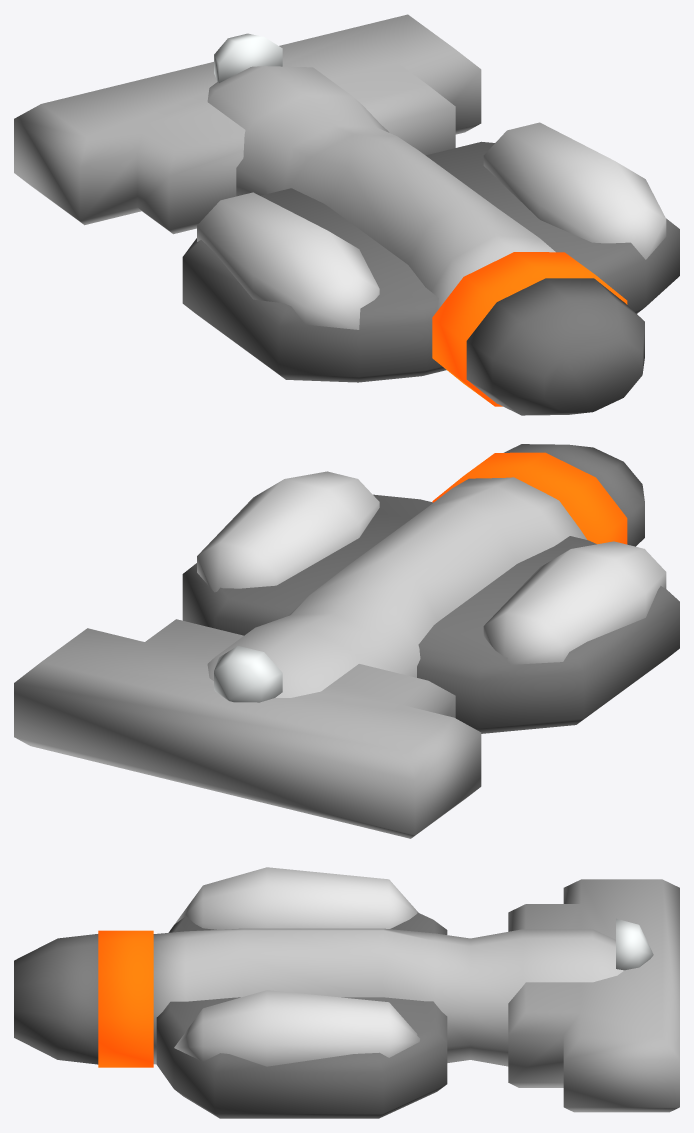
Rendered from newshs-9.glb.
3 views of the same model, one above another, from view 1: azimuth 30°, elevation 25°; view 2: azimuth 150°, elevation 25°; view 3: azimuth 270°, elevation 25° (orthographic). The views are drawn at different scales.
Visible parts, largest first — view 1: newshs-9; view 2: newshs-9; view 3: newshs-9.
Boxes of the visible parts, x1=… form: newshs-9: x1=14, y1=14, x2=679, y2=415; newshs-9: x1=14, y1=444, x2=679, y2=838; newshs-9: x1=14, y1=867, x2=679, y2=1118.
Bounding box in the file's own units: 0.5833 × 0.2268 × 0.9542.
